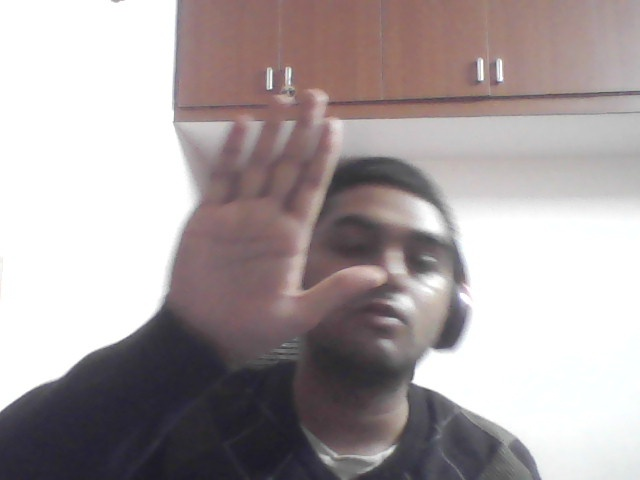Hello: (163, 74, 395, 374)
